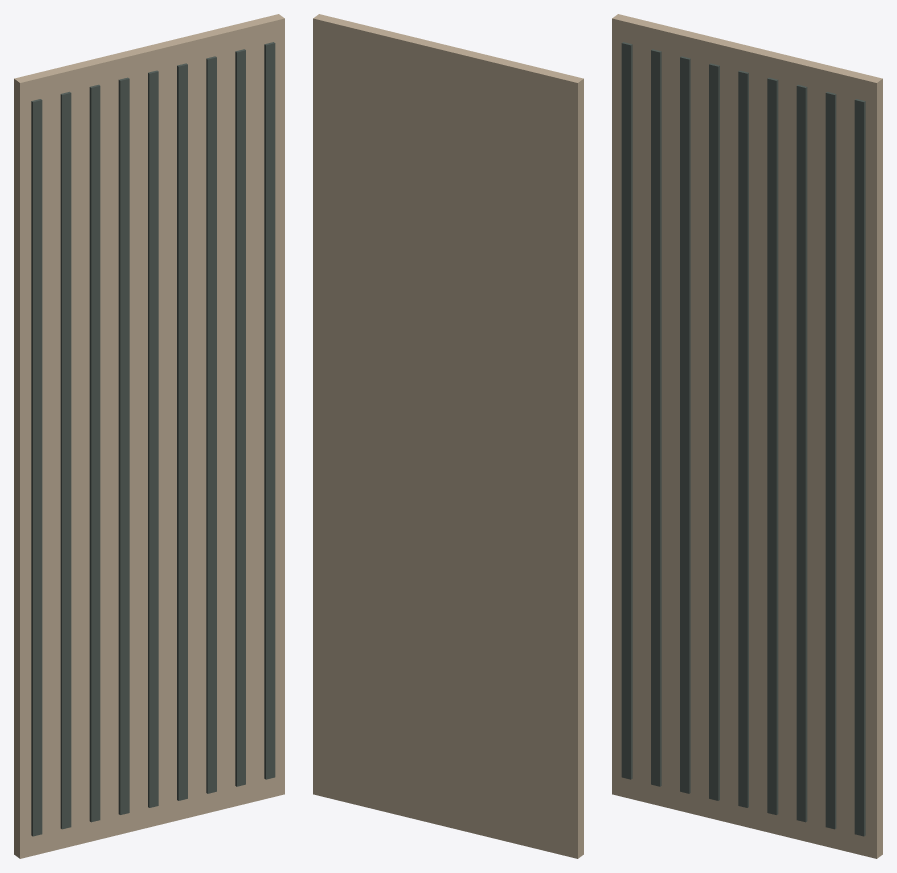
3 renders of one model, left to right at view 1: azimuth 30°, elevation 25°; view 2: azimuth 150°, elevation 25°; view 3: azimuth 330°, elevation 25°, orthographic.
Visible parts, largest first — view 1: wall-base, rib-0, rib-1, rib-8, rib-2, rib-3, rib-4, rib-5, rib-7, rib-6; view 2: wall-base; view 3: wall-base, rib-0, rib-7, rib-8, rib-5, rib-6, rib-4, rib-1, rib-3, rib-2.
Part boxes in pixels (x1,y1,x2,y2): wall-base: (14,14,284,858); rib-0: (31,99,42,836); rib-1: (60,91,71,829); rib-8: (264,42,275,779); rib-2: (89,84,100,822); rib-3: (118,77,129,814); rib-4: (148,70,158,807); rib-5: (177,63,187,800); rib-7: (235,49,245,786); rib-6: (206,56,216,793); wall-base: (313,14,583,858); wall-base: (612,14,882,858); rib-0: (621,42,632,779); rib-7: (825,91,836,829); rib-8: (854,99,865,836); rib-5: (767,77,778,814); rib-6: (796,84,807,822); rib-4: (738,70,748,807); rib-1: (651,49,661,786); rib-3: (709,63,719,800); rib-2: (680,56,690,793).
Size of the model in its own units: 1 by 2.8 by 0.05.
